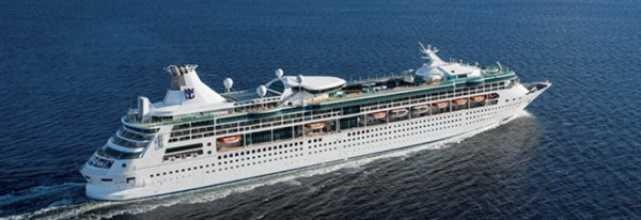youlun: (69, 39, 549, 212)
